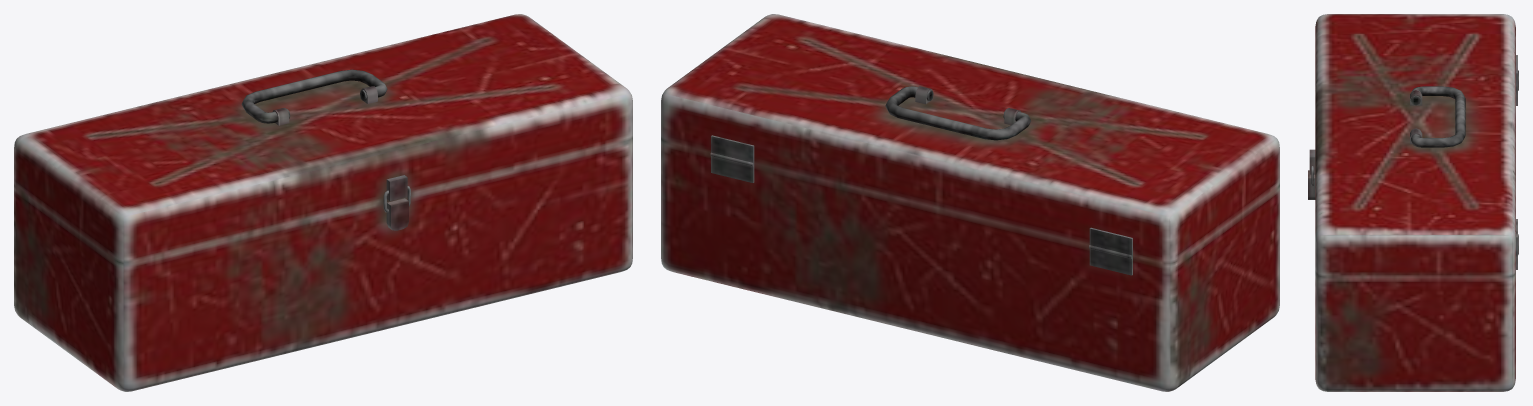
File: toolbox.glb
3 views of the same model, side by side, from view 1: azimuth 30°, elevation 25°; view 2: azimuth 150°, elevation 25°; view 3: azimuth 270°, elevation 25° (orthographic). The views are drawn at different scales.
Visible parts, largest first — view 1: Box004_07 - Default_0; view 2: Box004_07 - Default_0; view 3: Box004_07 - Default_0.
Boxes of the visible parts, x1=… form: Box004_07 - Default_0: x1=14, y1=14, x2=632, y2=391; Box004_07 - Default_0: x1=661, y1=14, x2=1279, y2=391; Box004_07 - Default_0: x1=1308, y1=14, x2=1518, y2=391.
Bounding box in the file's own units: 87.75 × 31.8 × 35.01.
Materials: 1 (1 with a texture image).
